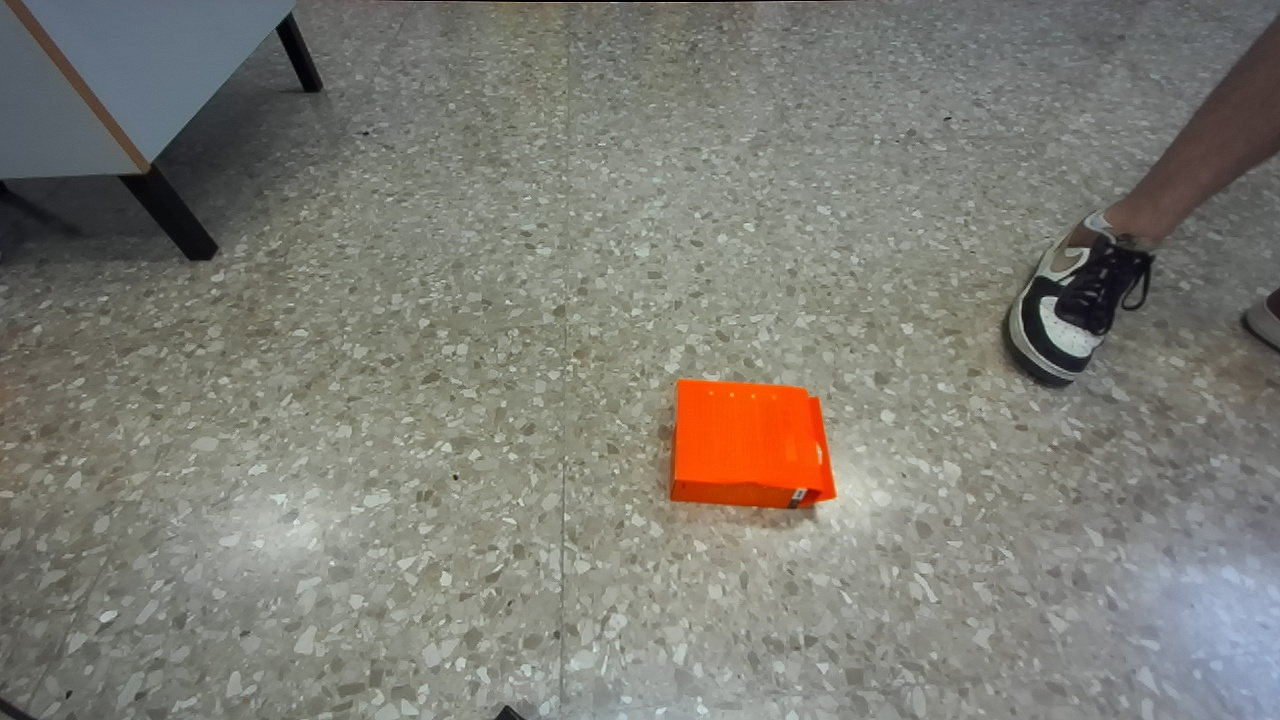caja_manguera: (672, 379, 834, 508)
